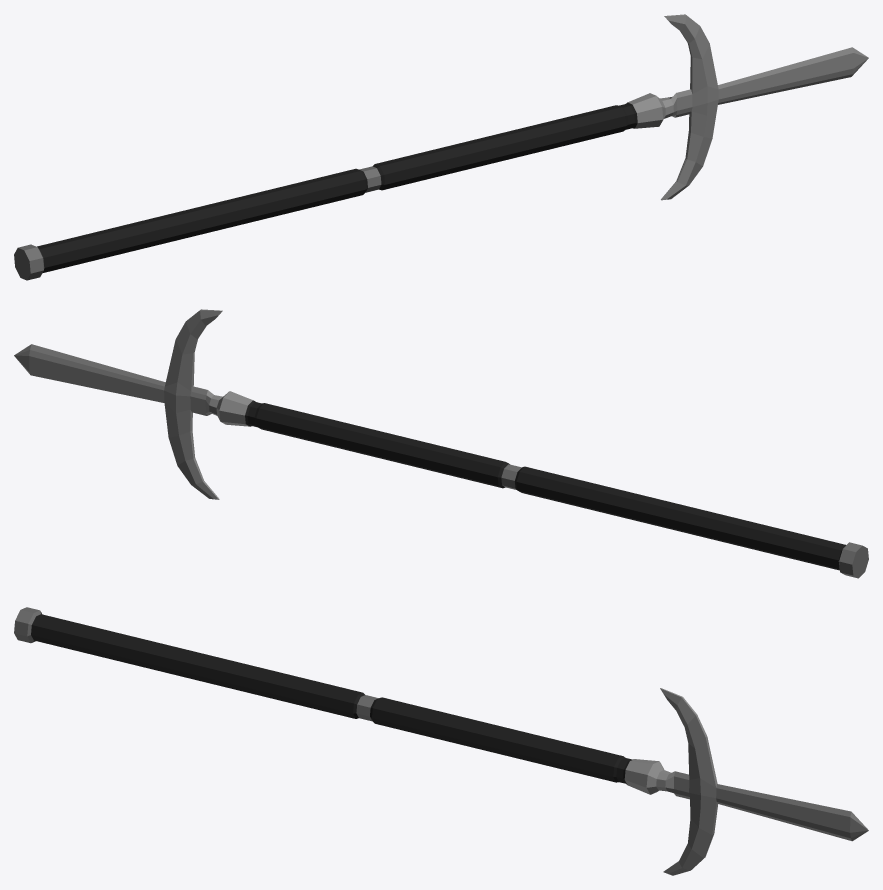
File: Sickle Spear_02.fbx
The picture shows the model from 3 angles, top to bottom: view 1: azimuth 30°, elevation 25°; view 2: azimuth 150°, elevation 25°; view 3: azimuth 330°, elevation 25°; orthographic projection.
Visible parts, largest first — view 1: Kama Yari; view 2: Kama Yari; view 3: Kama Yari.
Part boxes in pixels (box(x1,y1,x2,y2)): Kama Yari: box(14, 14, 868, 280); Kama Yari: box(14, 309, 868, 578); Kama Yari: box(14, 607, 868, 875).
Bounding box in the file's own units: 181 × 38.39 × 6.34.
